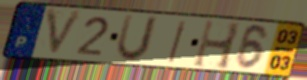2: (75, 15, 112, 57)
6: (233, 23, 273, 71)
H: (190, 18, 243, 71)
I: (166, 19, 190, 64)
U: (113, 13, 161, 64)
V: (44, 8, 86, 60)
